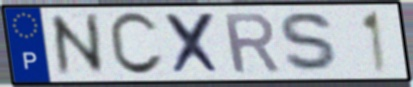1: (359, 8, 388, 76)
C: (106, 10, 167, 79)
N: (46, 11, 110, 79)
R: (220, 11, 284, 77)
S: (277, 10, 344, 76)
X: (162, 11, 225, 77)
